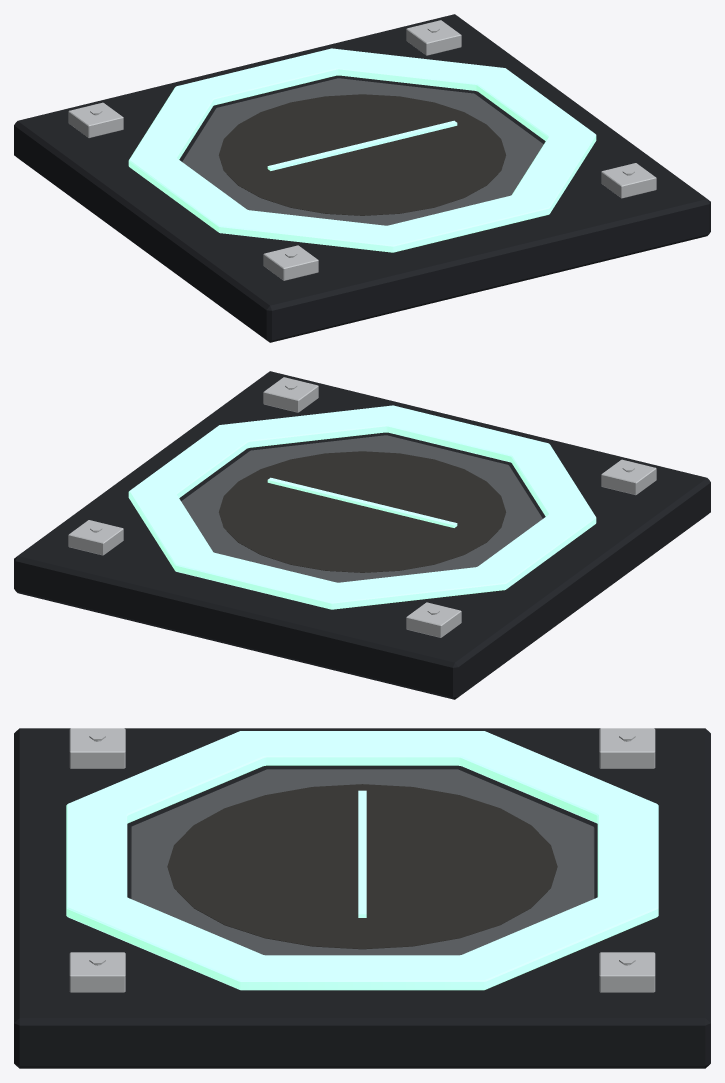
The model's file is build_pad_recommended.glb.
3 renders of one model, top to bottom at view 1: azimuth 30°, elevation 25°; view 2: azimuth 150°, elevation 25°; view 3: azimuth 270°, elevation 25°, orthographic. The views are drawn at different scales.
Visible parts, largest first — view 1: PadSlab, PadRing, PadGroove, PadWell, Mount3, Mount2, Mount0, Mount1, RecommendTick; view 2: PadSlab, PadRing, PadGroove, PadWell, Mount1, Mount0, Mount2, Mount3, RecommendTick; view 3: PadSlab, PadRing, PadGroove, PadWell, Mount1, Mount3, Mount0, Mount2, RecommendTick.
Boxes of the visible parts, x1,y1,x2,y2 form: PadSlab: [14, 14, 710, 342]; PadRing: [128, 48, 596, 252]; PadGroove: [219, 94, 505, 215]; PadWell: [182, 78, 543, 225]; Mount3: [406, 20, 461, 55]; Mount2: [68, 102, 123, 138]; Mount0: [263, 245, 318, 280]; Mount1: [601, 163, 656, 198]; RecommendTick: [267, 120, 457, 170]; PadSlab: [14, 371, 710, 699]; PadRing: [128, 405, 596, 609]; PadGroove: [219, 451, 505, 572]; PadWell: [181, 435, 542, 582]; Mount1: [263, 377, 318, 412]; Mount0: [601, 459, 656, 495]; Mount2: [406, 602, 461, 637]; Mount3: [68, 520, 123, 555]; RecommendTick: [267, 477, 457, 527]; PadSlab: [14, 728, 710, 1068]; PadRing: [66, 731, 658, 990]; PadGroove: [167, 784, 557, 949]; PadWell: [130, 769, 594, 955]; Mount1: [69, 952, 125, 992]; Mount3: [599, 952, 655, 992]; Mount0: [69, 728, 125, 768]; Mount2: [599, 728, 655, 768]; RecommendTick: [358, 790, 366, 917].
Bounding box in the file's own units: 1 × 0.1202 × 1.
